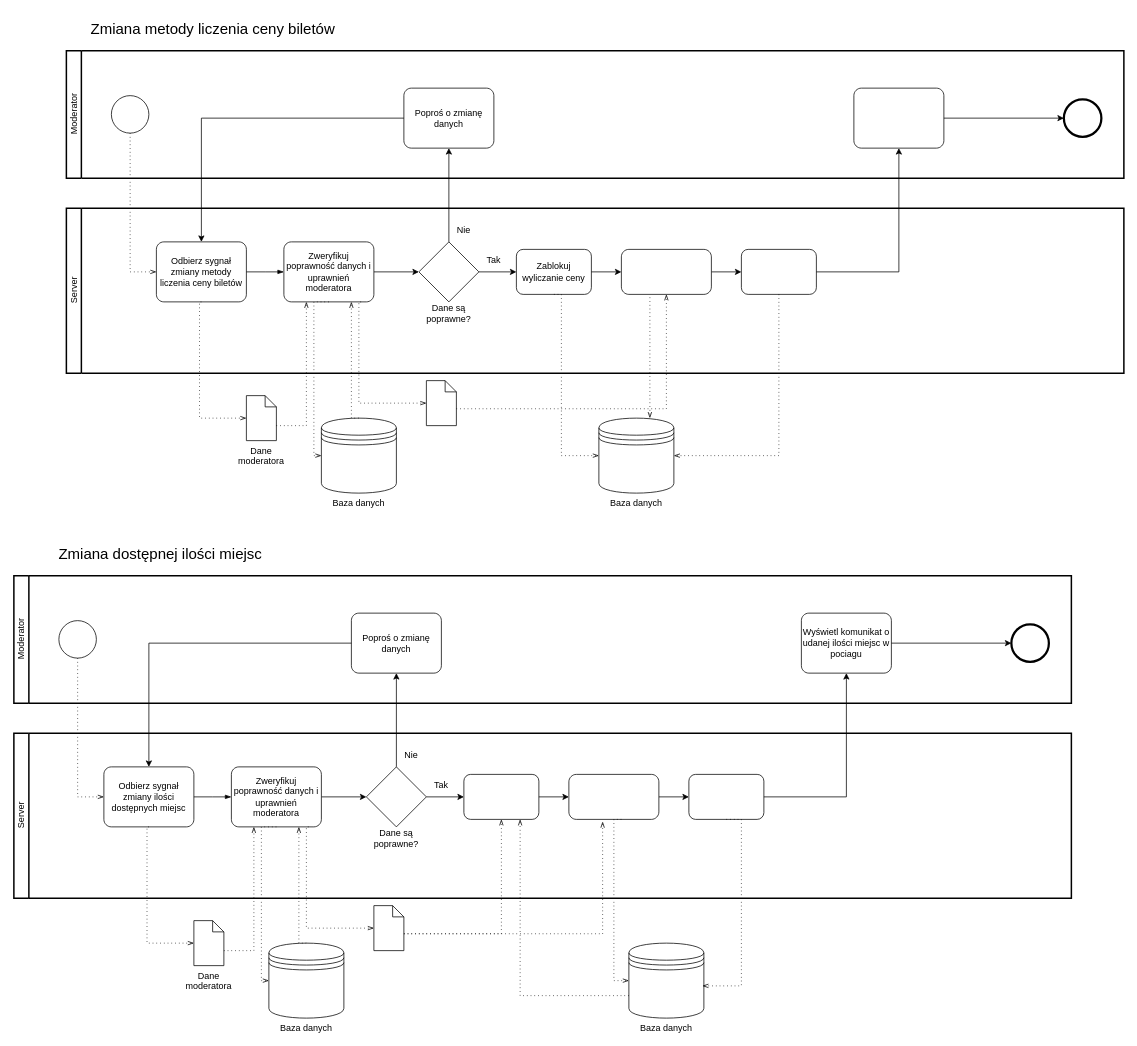
This 1137x1046 diagram has some shape labels left out. The centre of each missing label's shape, as x and y in pixels:
"Nowa metoda" goes at point (441, 403).
"Nowe dane pociagu" goes at point (388, 928).
"Odblokuj pociag" goes at point (726, 796).
"Odblokuj wyliczanie ceny" goes at point (778, 271).
"Wyświetl komunikat o udanej zmianie metody" goes at point (898, 117).
"Zablokuj bilety na pociag" goes at point (501, 796).
"Zmień ilość miejsc dla pociagu" goes at point (613, 796).
"Zmień metodę wyliczania ceny" goes at point (666, 271).
